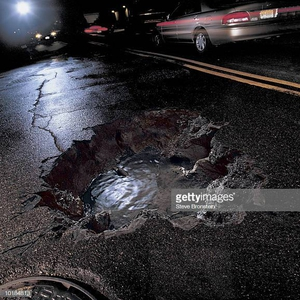pothole: (36, 109, 274, 243)
